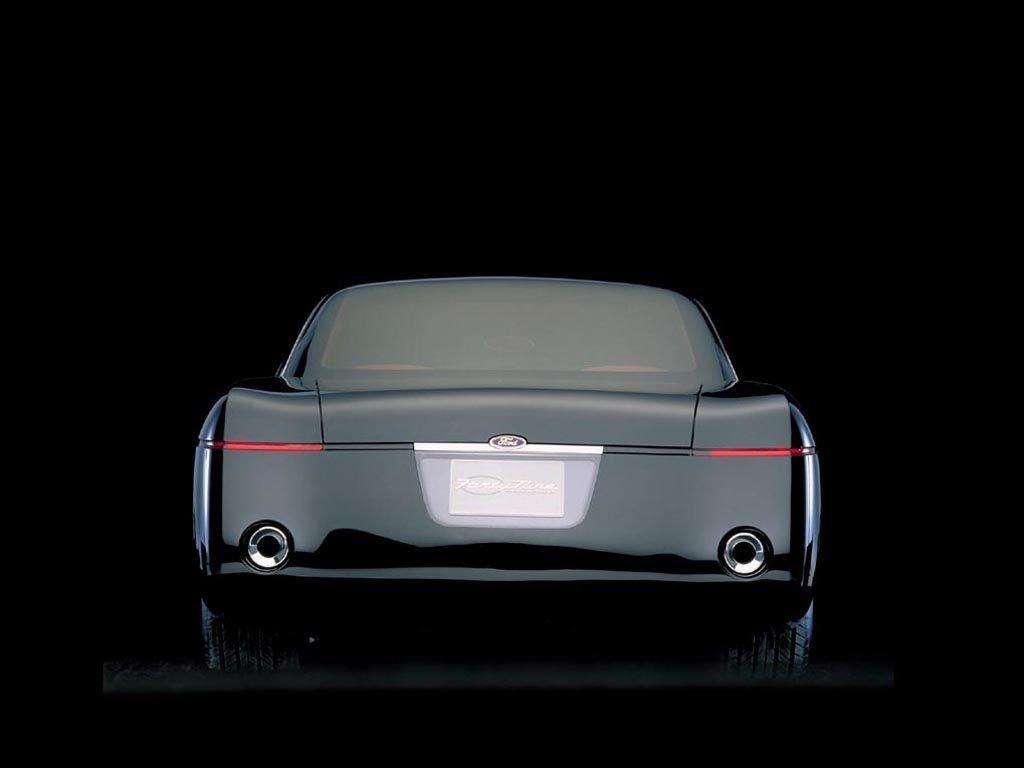small: (191, 271, 823, 611)
